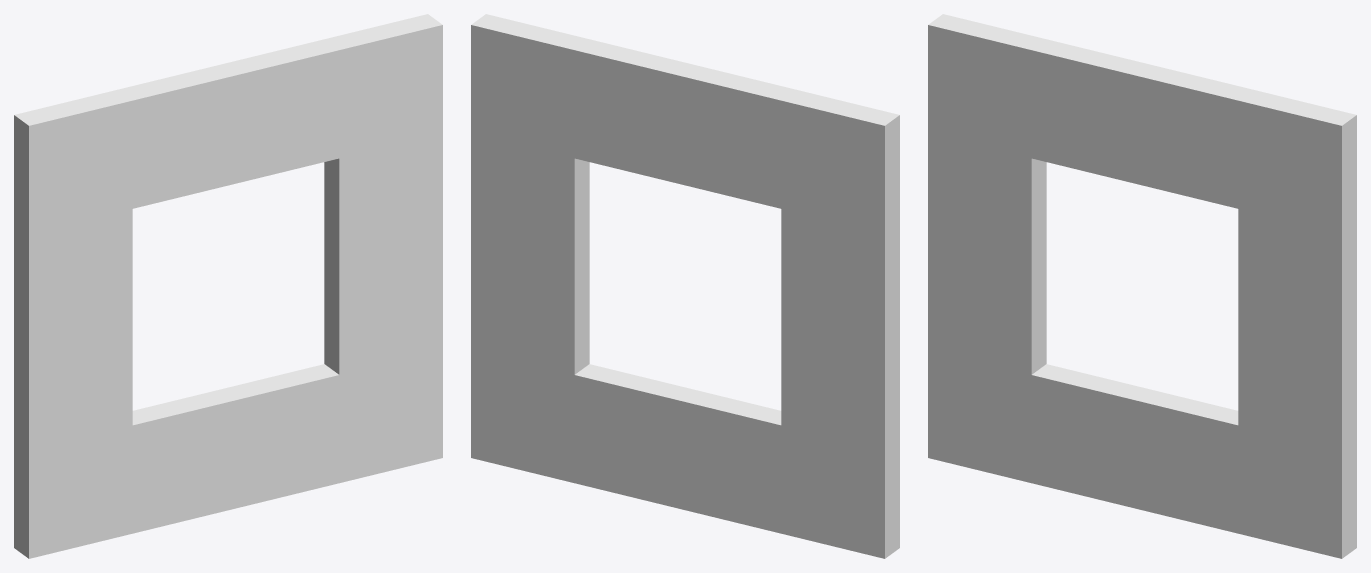
Rendered from windowway.obj.
3 renders of one model, left to right at view 1: azimuth 30°, elevation 25°; view 2: azimuth 150°, elevation 25°; view 3: azimuth 330°, elevation 25°, orthographic.
Bounding box in the file's own units: 1.6 × 1.6 × 0.1.
Materials: 1 (1 with a texture image).
